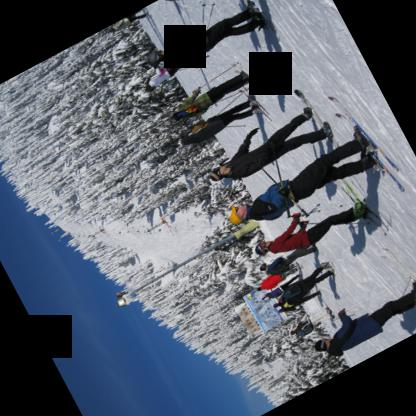backpack: (282, 280, 303, 299)
